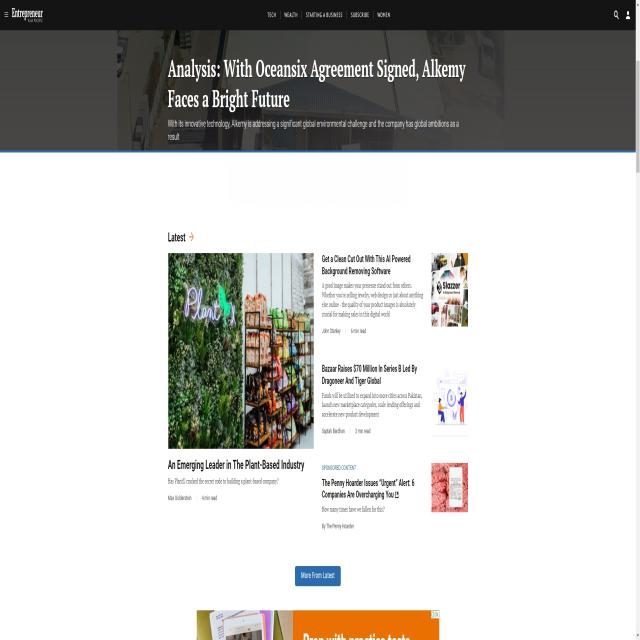menu-bar: (265, 5, 392, 22)
